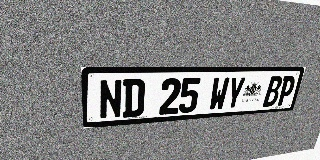2: (159, 78, 182, 115)
5: (178, 78, 201, 113)
B: (262, 76, 284, 107)
D: (122, 79, 145, 118)
N: (99, 79, 122, 120)
P: (276, 76, 297, 106)
W: (208, 77, 230, 111)
Y: (224, 77, 246, 110)
